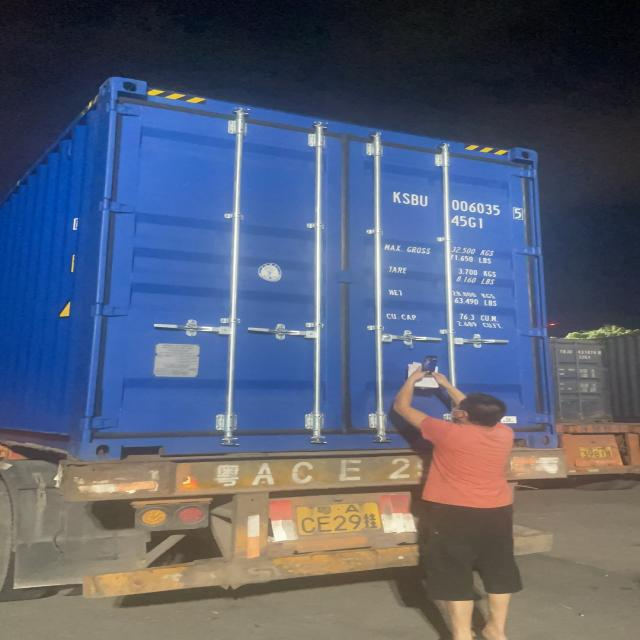seal: (399, 327, 418, 353)
